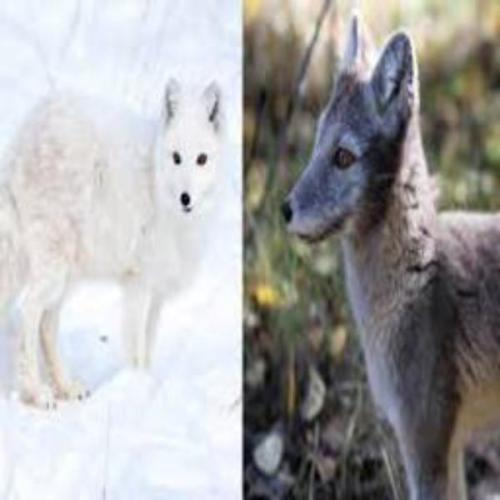arctic_fox-endangered: (278, 9, 500, 500), (0, 81, 229, 409)
